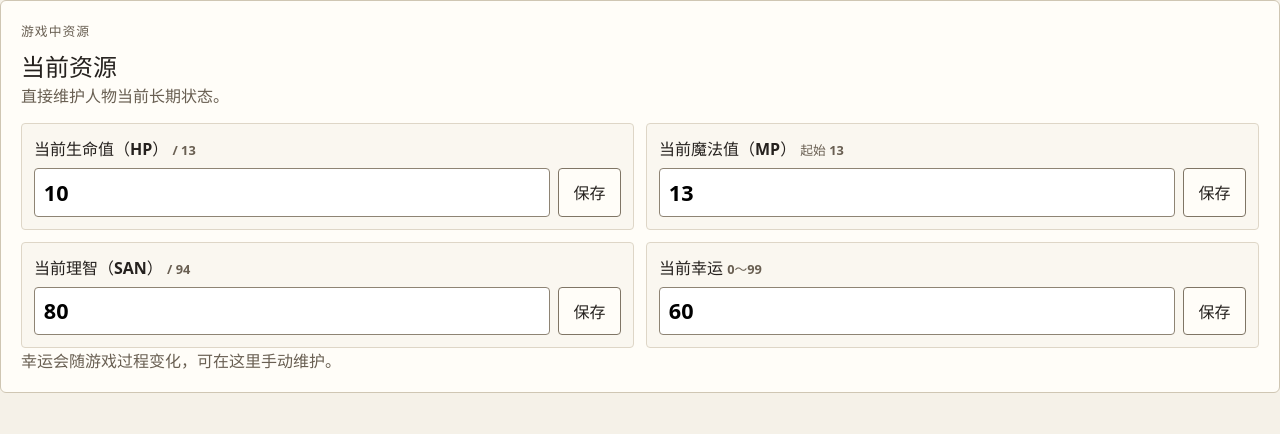
Test: Final Sheet resource workspace rendered interactions › 保存进行中禁用所有 resource actions，并忽略重复提交
Step 1. Replace the text in the number field labelled "当前幸运 0～99" with "45" → (917, 311), box [659, 287, 1175, 335]
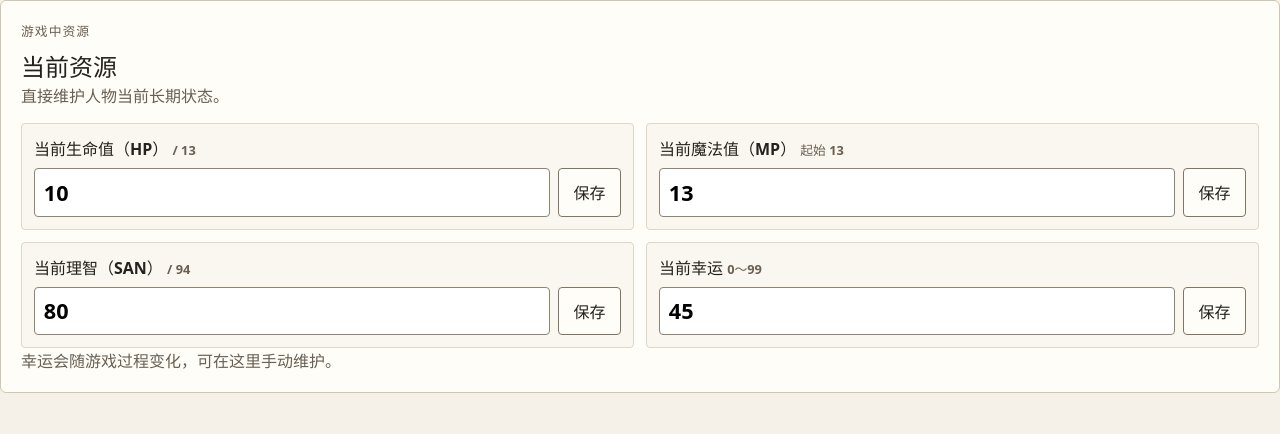
Step 2. Click the 4th button "保存" → click(1215, 311), box [1183, 287, 1246, 335]
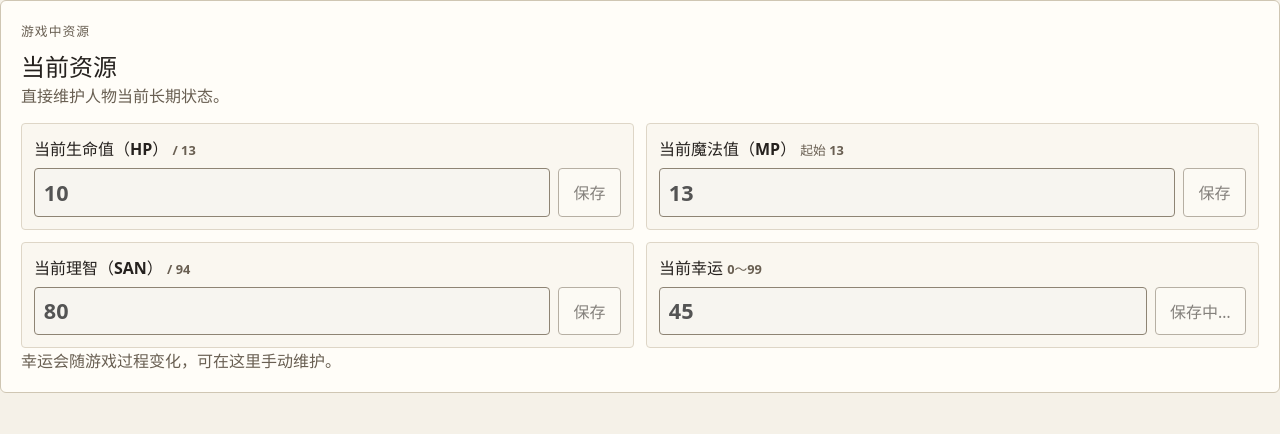
Step 3. Click the button "保存中…" → click(1200, 311), box [1155, 287, 1246, 335]
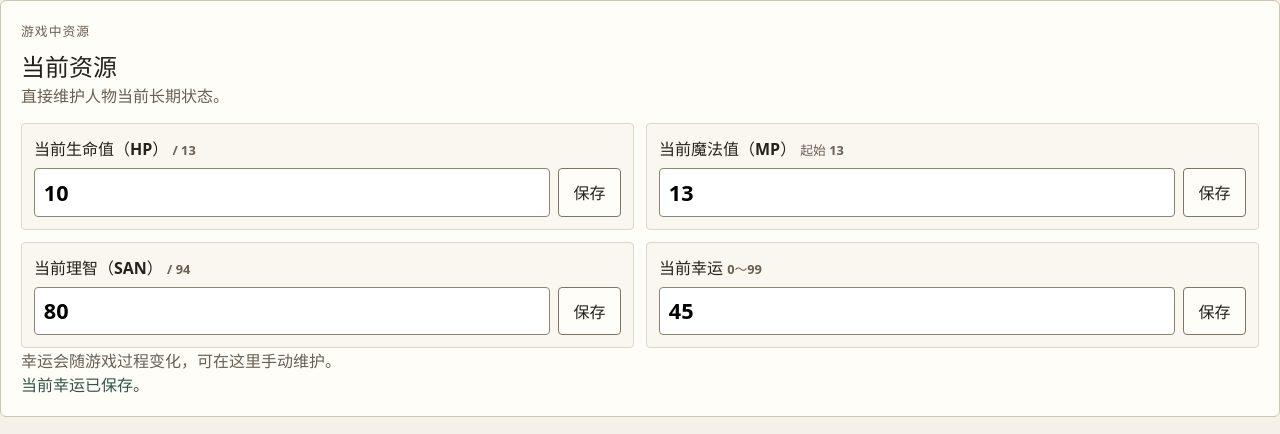
Expected: the 4th button "保存" is enabled, [1183, 287, 1246, 335]
